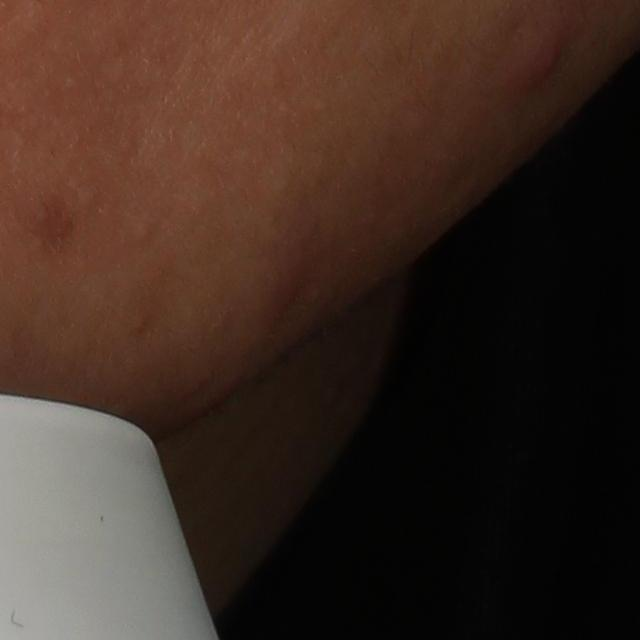comedo: (133, 214, 159, 248)
papule: (505, 29, 573, 101)
